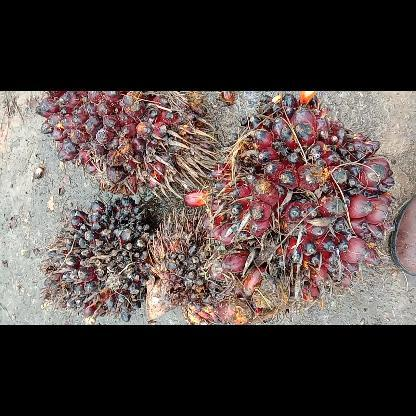Kurang masak: (209, 90, 393, 306)
TBS abnormal: (39, 195, 155, 320), (143, 208, 226, 324)
TBS masak: (36, 90, 218, 198)
